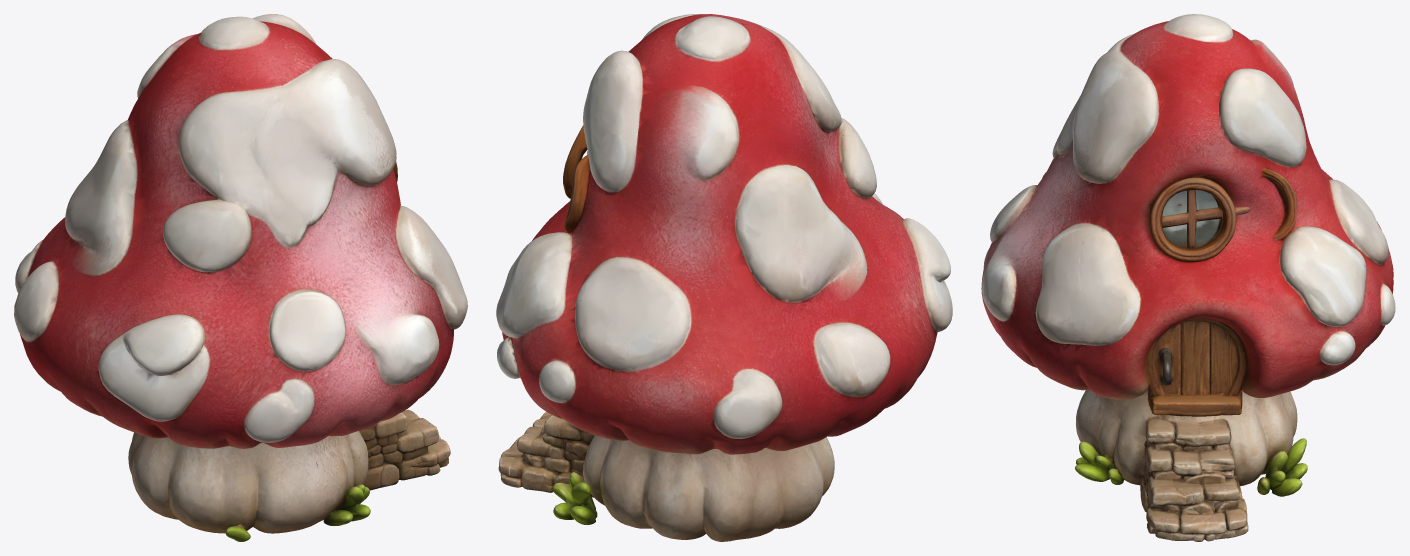
The model's file is mushroom-4v.glb.
3 renders of one model, left to right at view 1: azimuth 30°, elevation 25°; view 2: azimuth 150°, elevation 25°; view 3: azimuth 270°, elevation 25°, orthographic. The views are drawn at different scales.
Parts seen in each view (by area): view 1: model; view 2: model; view 3: model.
Part boxes in pixels (x1=…): model: x1=14, y1=14, x2=467, y2=541; model: x1=496, y1=14, x2=952, y2=541; model: x1=981, y1=14, x2=1395, y2=541.
Bounding box in the file's own units: 0.8331 × 0.9788 × 0.8404.
1 material, 1 textured.
